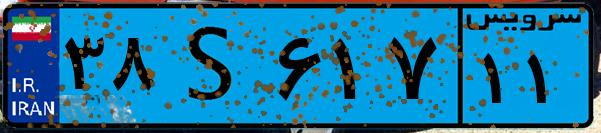1: (330, 28, 385, 110), (475, 38, 525, 113), (525, 38, 570, 115)
3: (57, 26, 110, 100)
6: (270, 28, 330, 110)
7: (385, 28, 445, 110)
8: (110, 28, 158, 98)
S: (158, 12, 270, 120)
